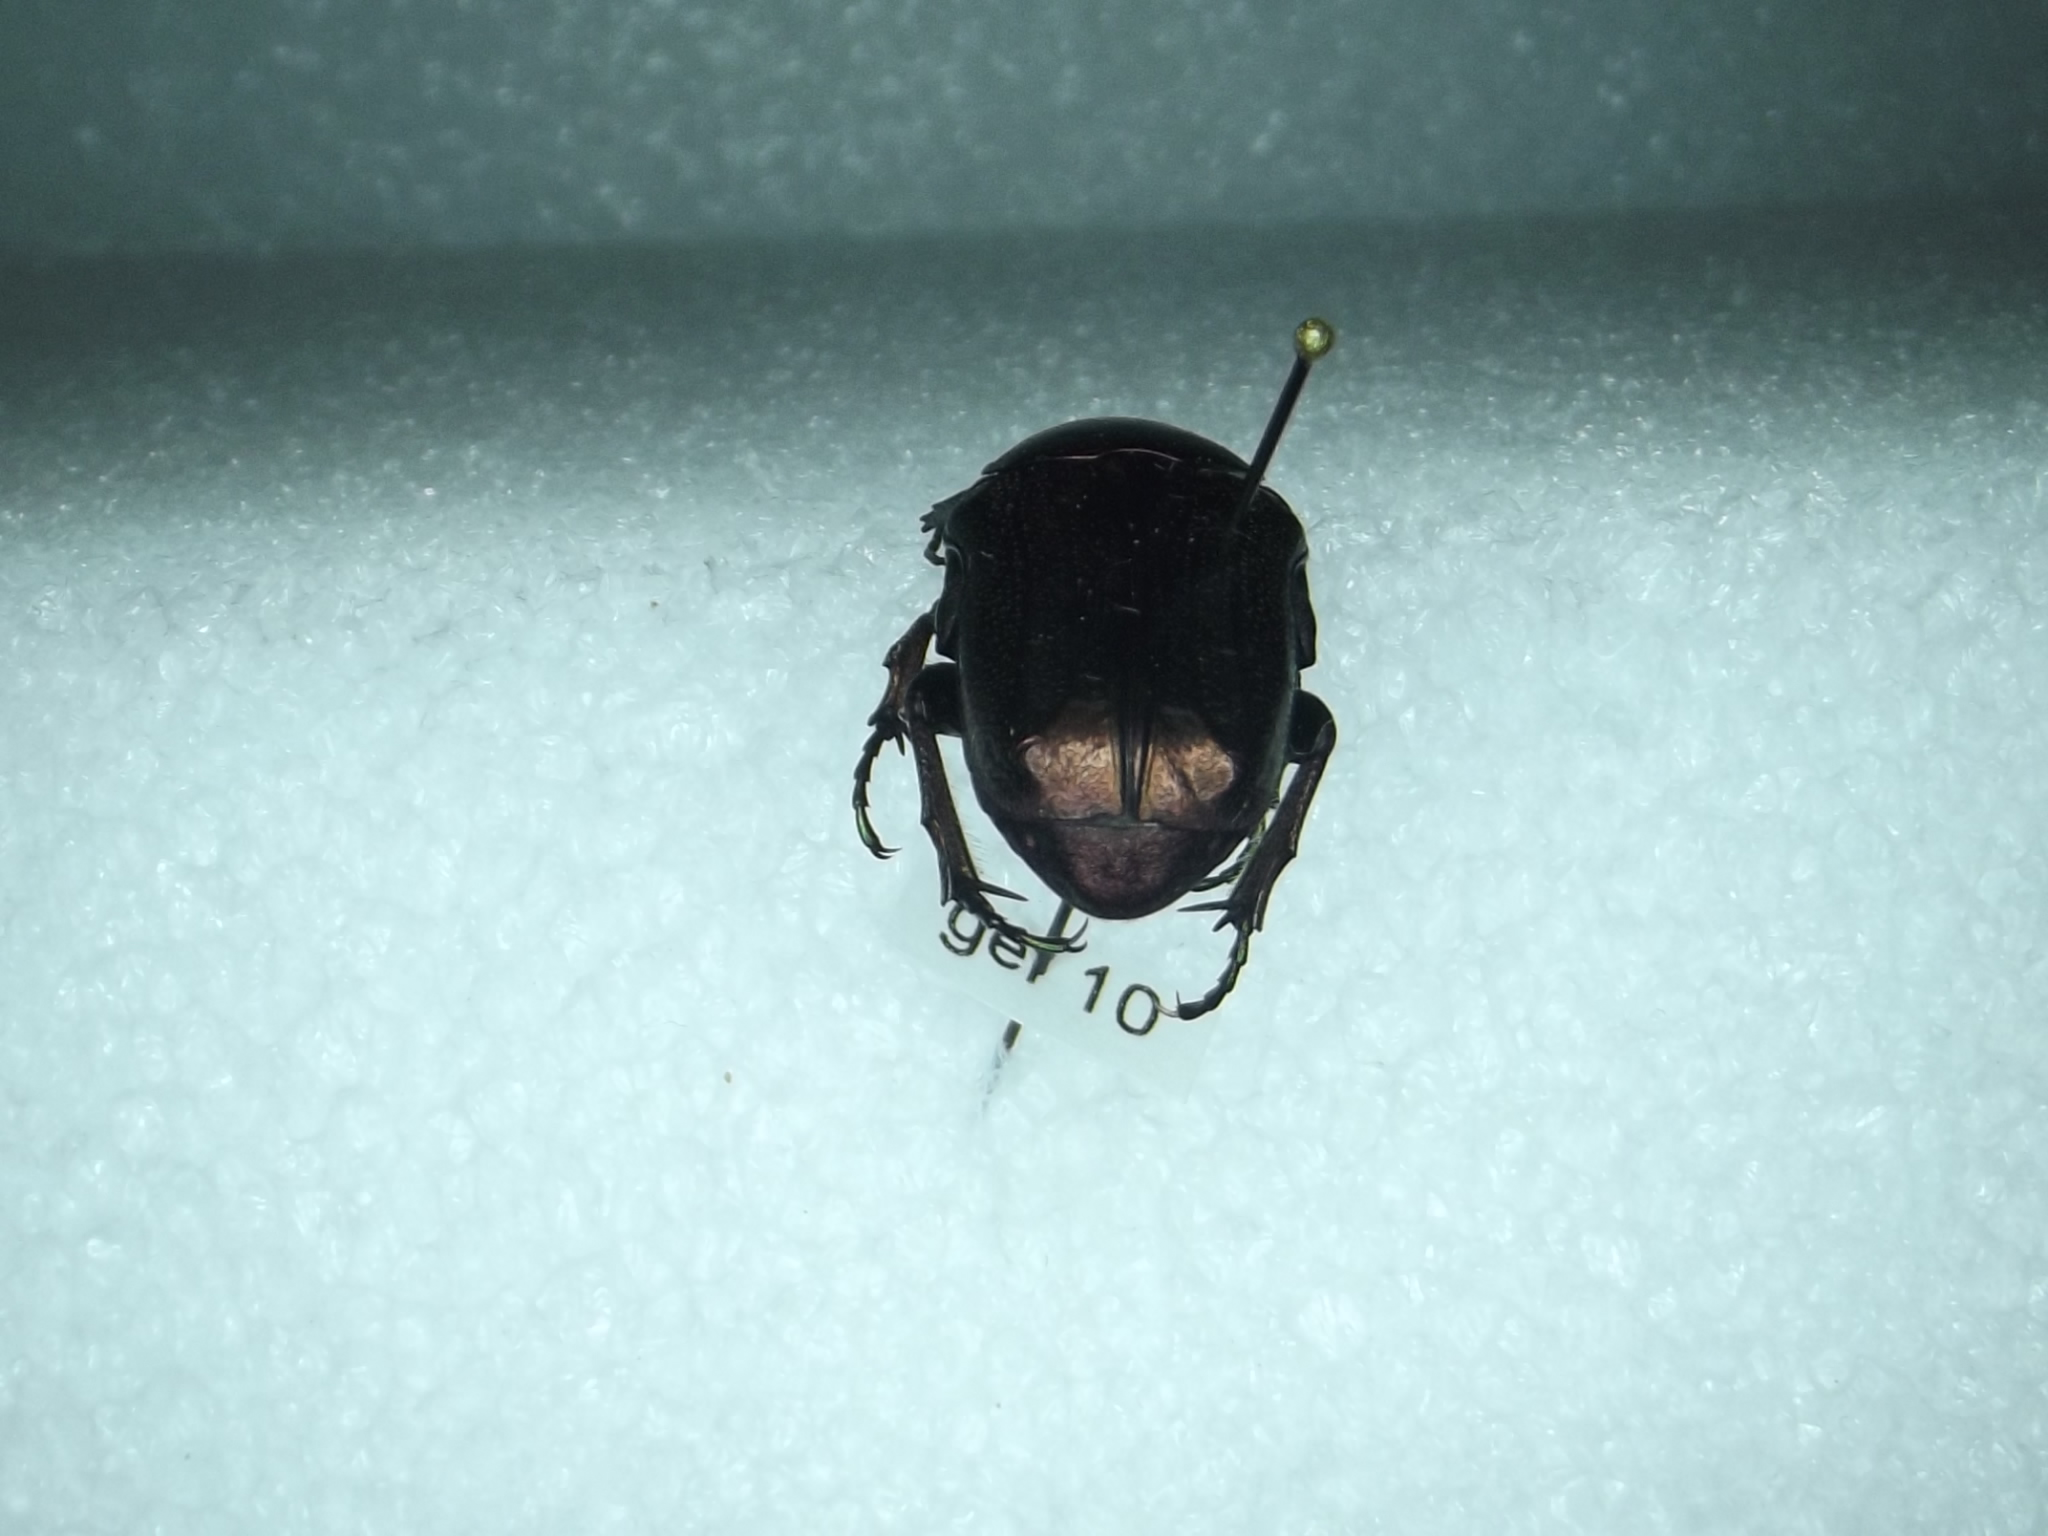Cetonia_aurata: (835, 394, 1353, 1025)
